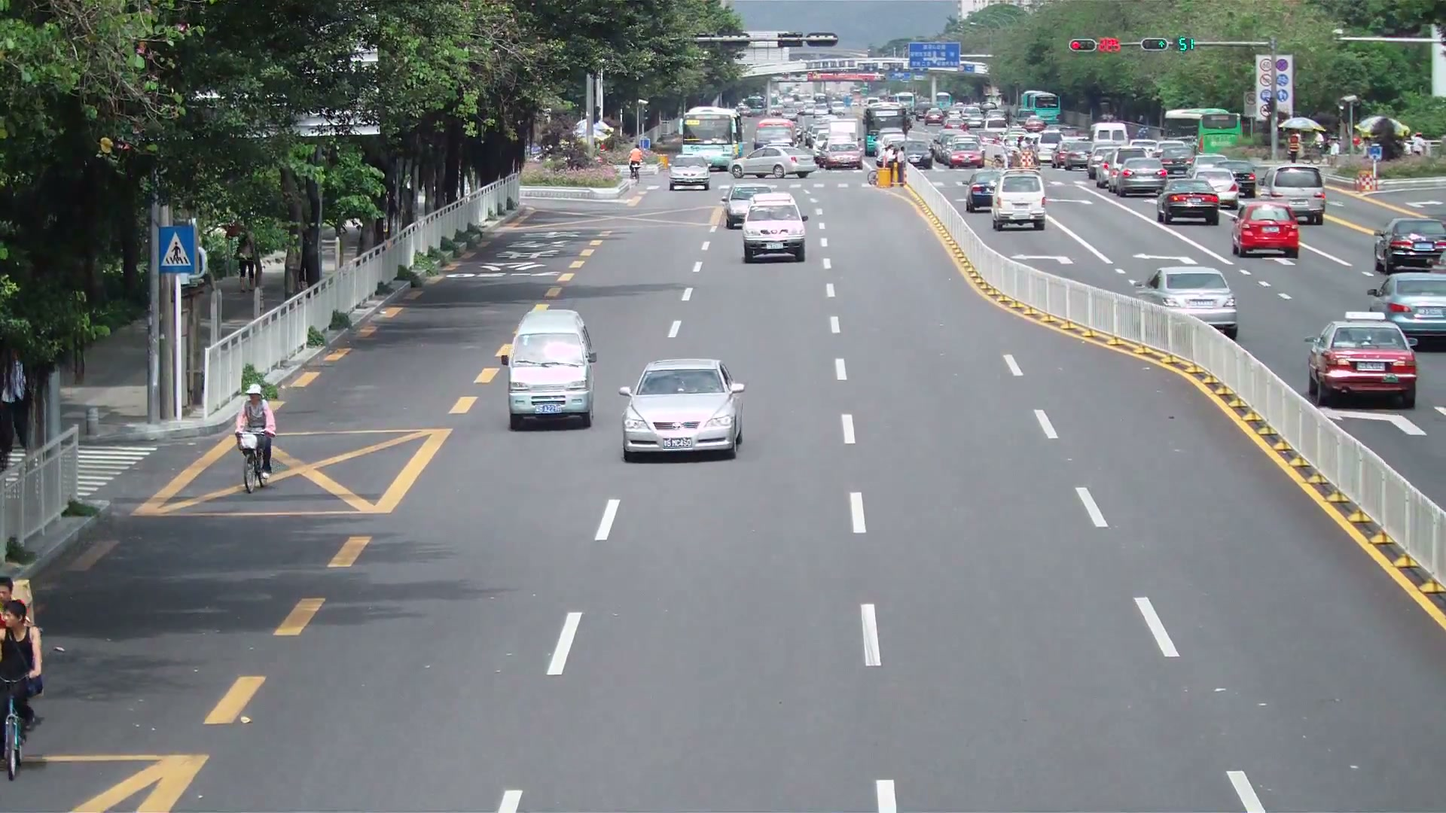car: (618, 357, 747, 462), (504, 304, 597, 431), (1304, 316, 1420, 409), (1144, 262, 1239, 337), (1372, 270, 1445, 348), (740, 193, 807, 263), (1230, 199, 1301, 261), (1372, 218, 1445, 273), (1269, 160, 1326, 225), (991, 172, 1048, 232), (1156, 178, 1221, 227), (1109, 155, 1168, 197), (670, 156, 710, 191), (966, 173, 998, 210)
motorcycle: (234, 424, 275, 493)
pedestrian: (0, 595, 43, 771), (0, 338, 30, 470), (235, 386, 277, 474), (0, 343, 18, 472)
